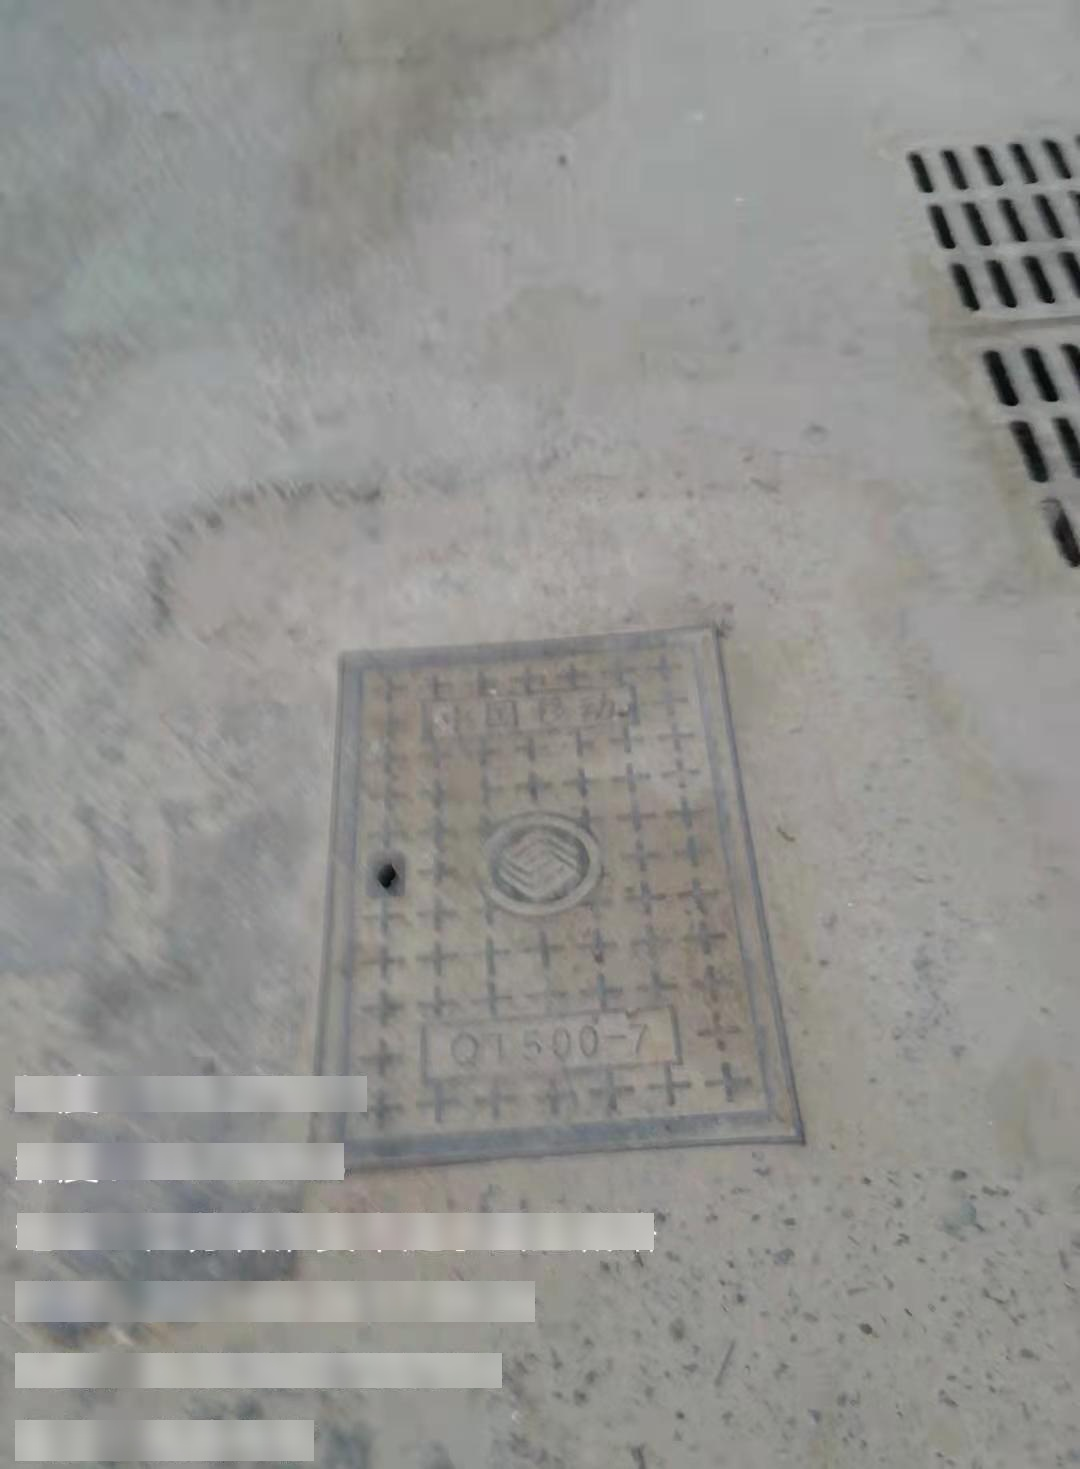good: (269, 622, 803, 1169)
